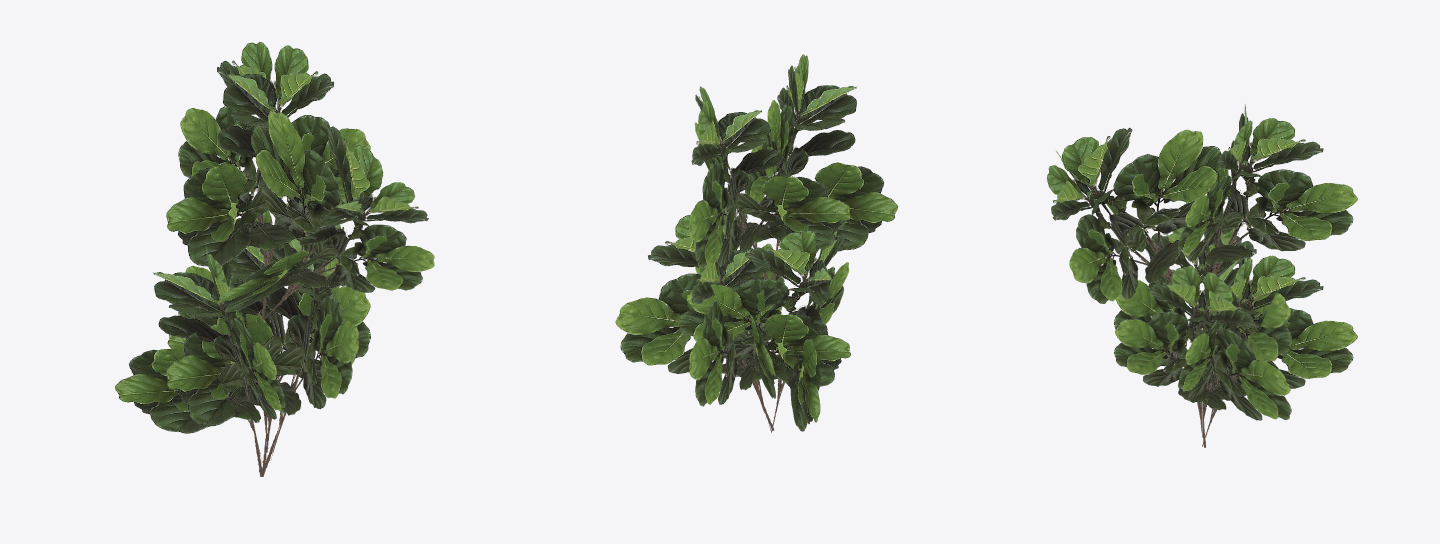
File: FiddleLeaf.fbx
The picture shows the model from 3 angles, left to right: view 1: azimuth 30°, elevation 25°; view 2: azimuth 150°, elevation 25°; view 3: azimuth 270°, elevation 25°; orthographic projection. The views are drawn at different scales.
Parts seen in each view (by area): view 1: Plane03; view 2: Plane03; view 3: Plane03.
Part boxes in pixels (left/top/right/bottom): Plane03: left=114, top=42, right=434, bottom=476; Plane03: left=615, top=54, right=898, bottom=432; Plane03: left=1046, top=104, right=1357, bottom=447.
Bounding box in the file's own units: 1.75 × 2.31 × 2.
